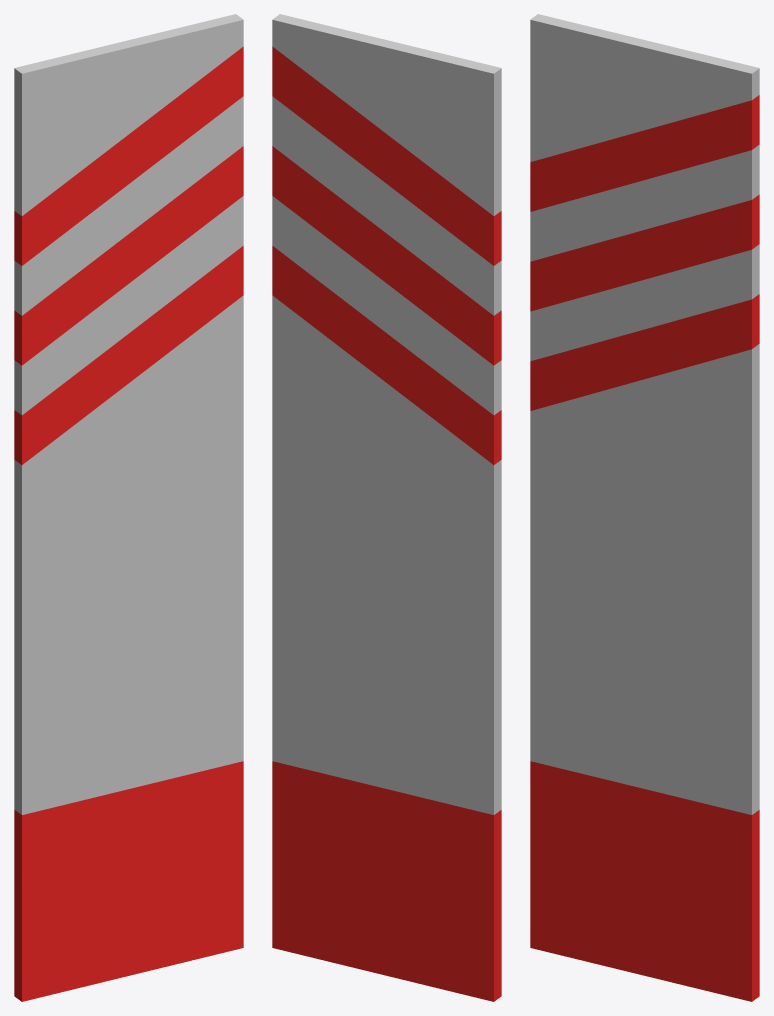
Rendered from StopBlock.fbx.
3 views of the same model, side by side, from view 1: azimuth 30°, elevation 25°; view 2: azimuth 150°, elevation 25°; view 3: azimuth 330°, elevation 25° (orthographic).
Parts seen in each view (by area): view 1: Plane.019; view 2: Plane.019; view 3: Plane.019.
Part boxes in pixels (<box>): Plane.019: <box>14,14,243,1001</box>; Plane.019: <box>272,14,501,1001</box>; Plane.019: <box>530,14,759,1001</box>.
Size of the model in its own units: 2 by 8 by 0.1223.
